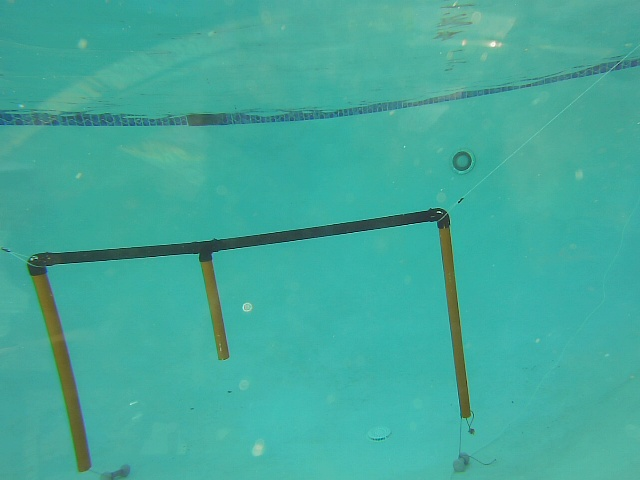Gate: (24, 266, 97, 477), (435, 221, 473, 420), (197, 258, 233, 364)
